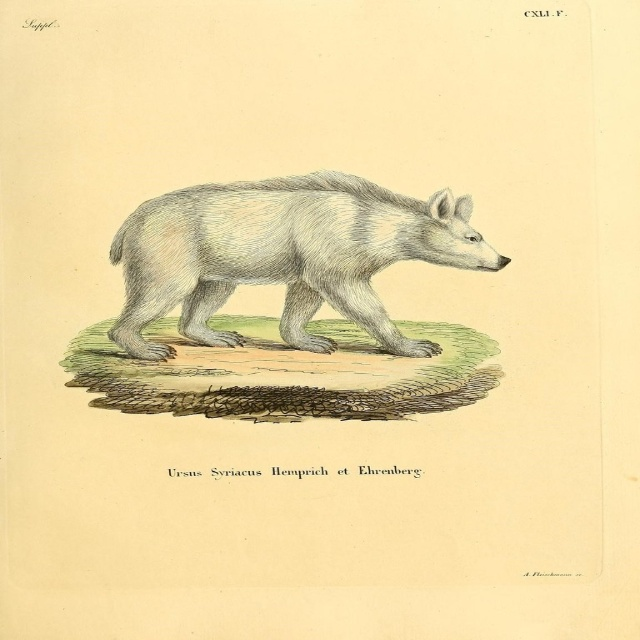Bear: (106, 167, 509, 362)
